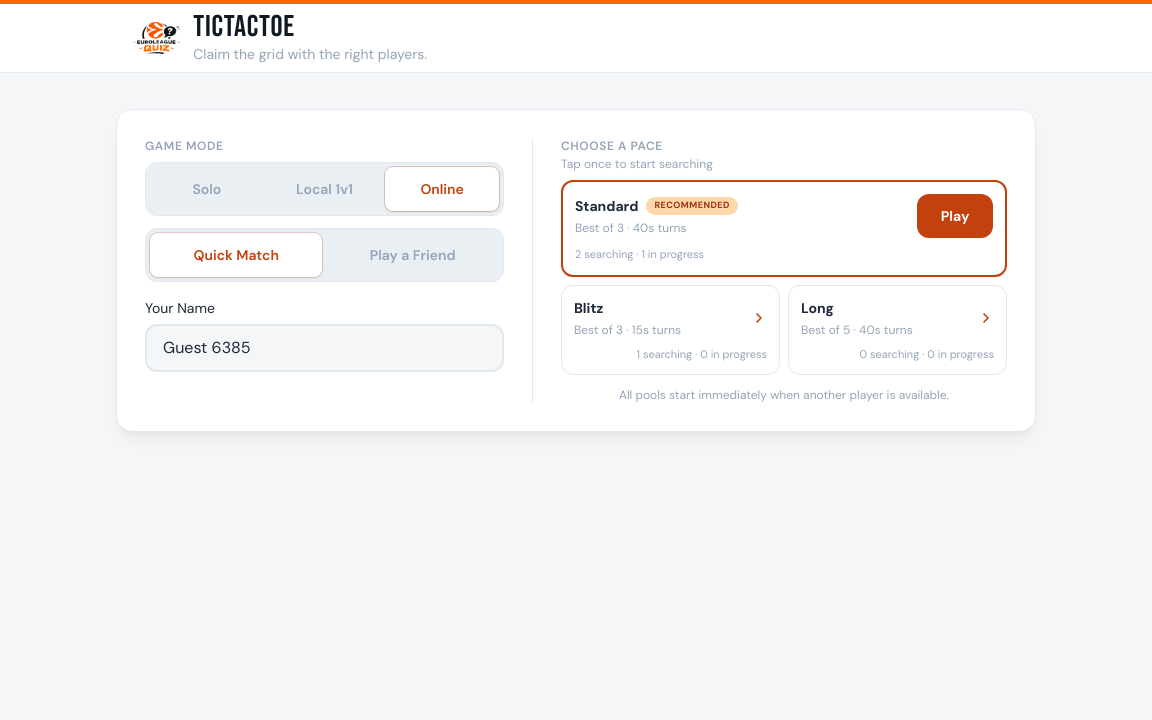
Scenario: GameSetup › re-enables the pool grid after a failed pick
Click the button with test id "quick-pick-standard" at (607, 206), box [561,180,1007,276]
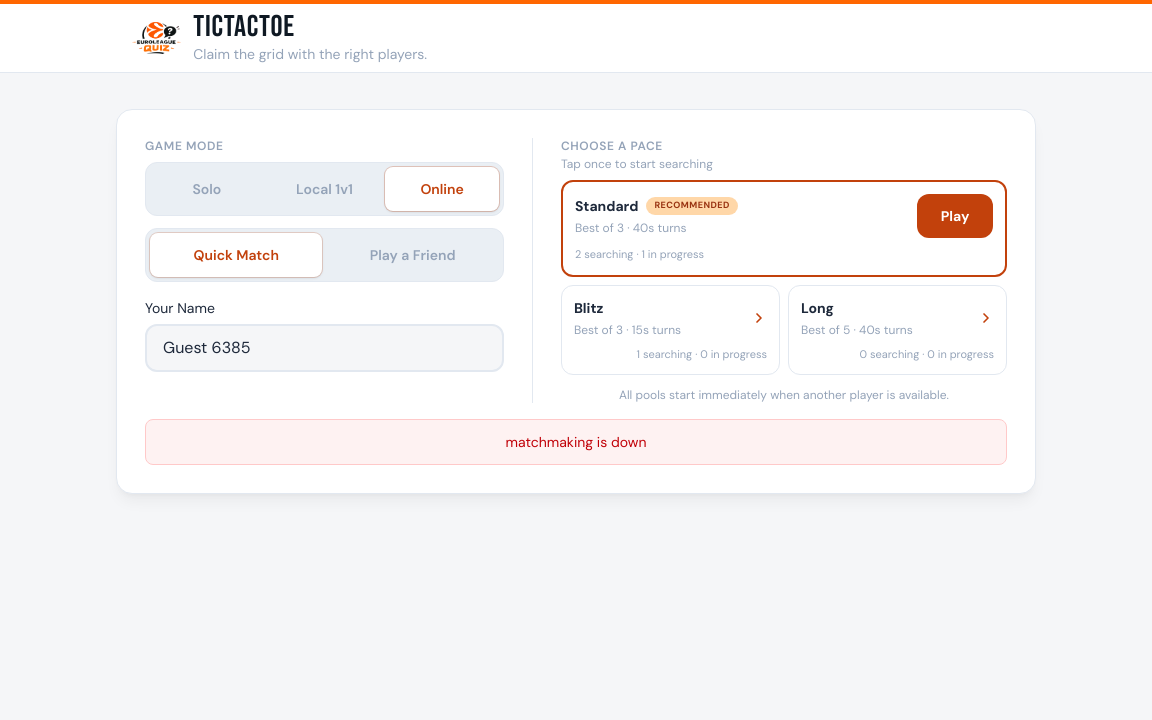
Expected: the text "matchmaking is down" is shown, [145,419,1007,465]
